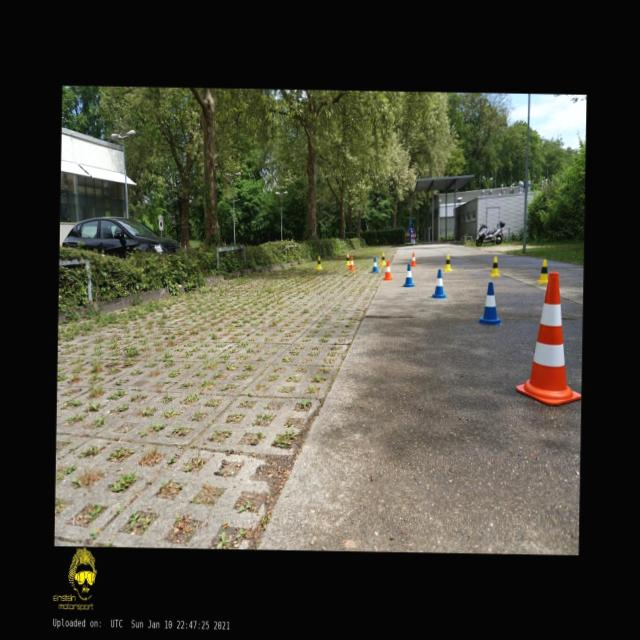blue_cone: (478, 281, 503, 325), (430, 269, 448, 298), (402, 264, 415, 286), (371, 256, 378, 272)
large_orange_cone: (516, 271, 582, 405)
orange_cone: (382, 258, 393, 280), (348, 255, 355, 270), (409, 252, 416, 266)
yellow_cone: (537, 258, 548, 284), (490, 256, 500, 276), (442, 252, 452, 270), (315, 256, 322, 269), (380, 252, 386, 265), (344, 252, 350, 264)
